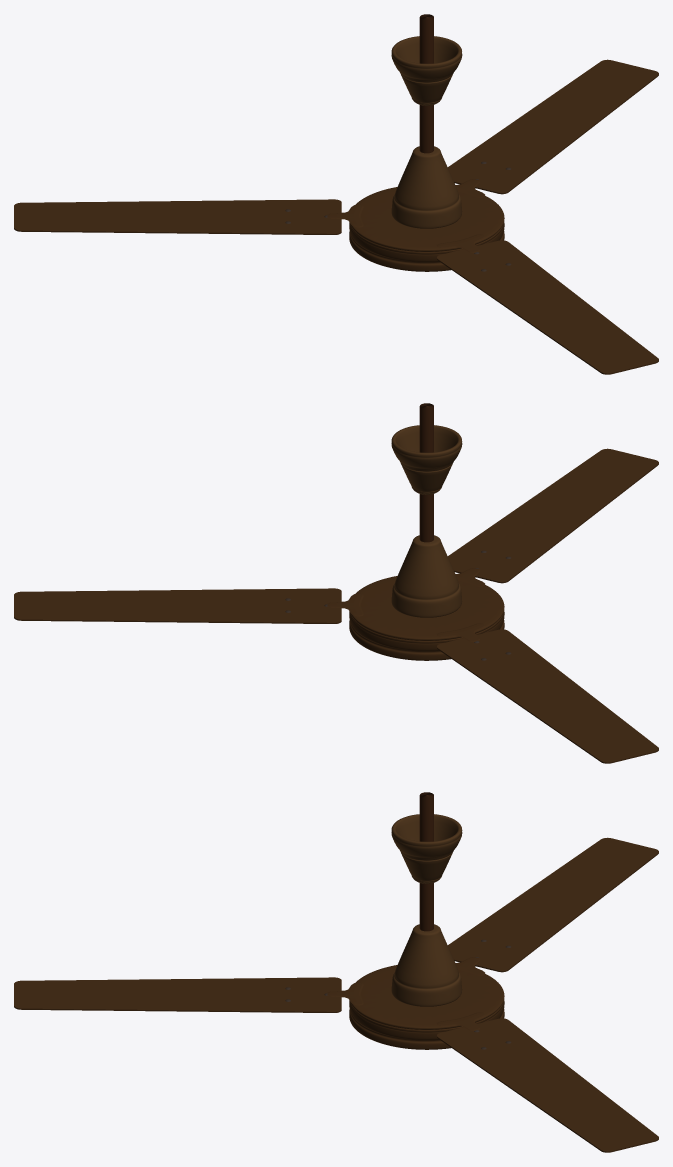
The model's file is FAN.fbx.
3 renders of one model, top to bottom at view 1: azimuth 30°, elevation 25°; view 2: azimuth 150°, elevation 25°; view 3: azimuth 270°, elevation 25°, orthographic.
Parts seen in each view (by area): view 1: blade 1.002, blade 1, blade 1.001, Cylinder.002, Cylinder.001, Cylinder.003, Cylinder; view 2: blade 1.001, blade 1.002, blade 1, Cylinder.002, Cylinder.001, Cylinder.003, Cylinder; view 3: blade 1, blade 1.001, blade 1.002, Cylinder.002, Cylinder.001, Cylinder.003, Cylinder.
Part boxes in pixels (box(x1,y1,x2,y2)): blade 1.002: box(14, 199, 341, 234); blade 1: box(437, 240, 658, 374); blade 1.001: box(448, 59, 658, 194); Cylinder.002: box(349, 187, 504, 271); Cylinder.001: box(391, 146, 462, 228); Cylinder.003: box(391, 36, 462, 105); Cylinder: box(419, 14, 433, 153); blade 1.001: box(14, 588, 341, 623); blade 1.002: box(437, 629, 658, 763); blade 1: box(448, 448, 658, 583); Cylinder.002: box(349, 576, 504, 660); Cylinder.001: box(391, 535, 462, 617); Cylinder.003: box(391, 425, 462, 494); Cylinder: box(419, 403, 433, 542); blade 1: box(14, 977, 341, 1012); blade 1.001: box(437, 1018, 658, 1152); blade 1.002: box(448, 837, 658, 972); Cylinder.002: box(349, 965, 504, 1049); Cylinder.001: box(391, 924, 462, 1006); Cylinder.003: box(391, 814, 462, 883); Cylinder: box(419, 792, 433, 931).
Bounding box in the file's own units: 209 × 71.32 × 181.
